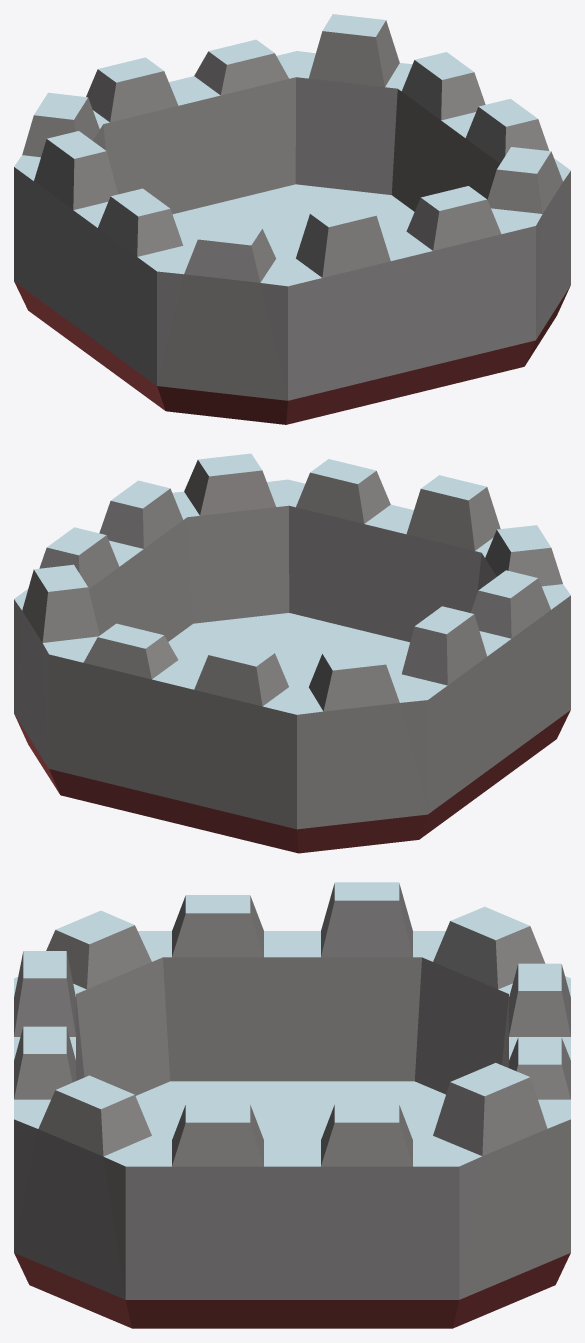
The model's file is SM_Bld_Knights_Castle_04_Snow.fbx.
3 renders of one model, top to bottom at view 1: azimuth 30°, elevation 25°; view 2: azimuth 150°, elevation 25°; view 3: azimuth 270°, elevation 25°, orthographic. The views are drawn at different scales.
Visible parts, largest first — view 1: SM_Bld_Knights_Castle_04_Snow; view 2: SM_Bld_Knights_Castle_04_Snow; view 3: SM_Bld_Knights_Castle_04_Snow.
Part boxes in pixels (<box>): SM_Bld_Knights_Castle_04_Snow: <box>14,14,570,424</box>; SM_Bld_Knights_Castle_04_Snow: <box>14,453,570,853</box>; SM_Bld_Knights_Castle_04_Snow: <box>14,882,570,1328</box>.
Size of the model in its own units: 82.01 by 37.05 by 82.01.
1 material, 1 textured.
